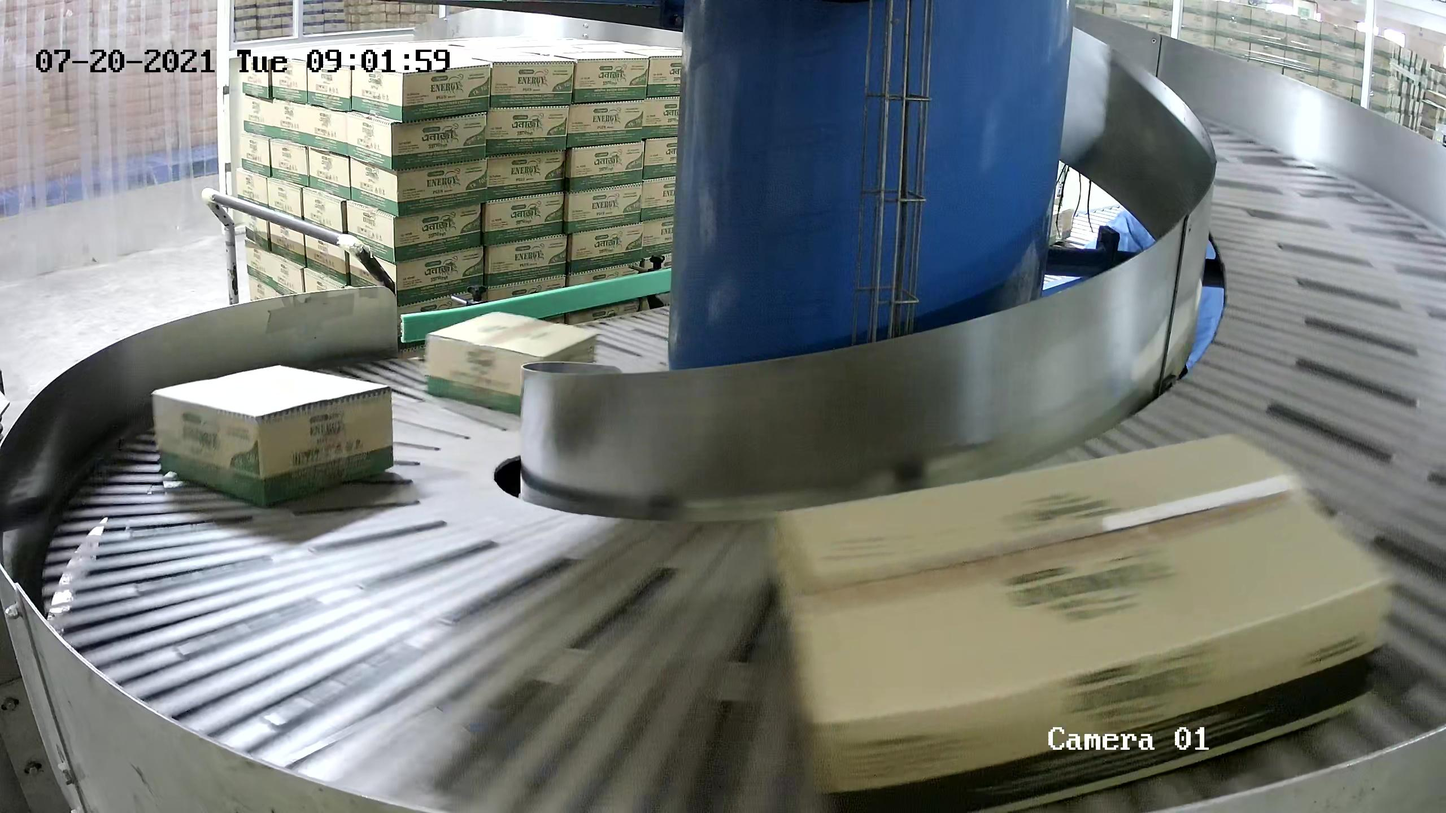Box: (771, 431, 1397, 813), (151, 364, 394, 508), (423, 311, 596, 421)
